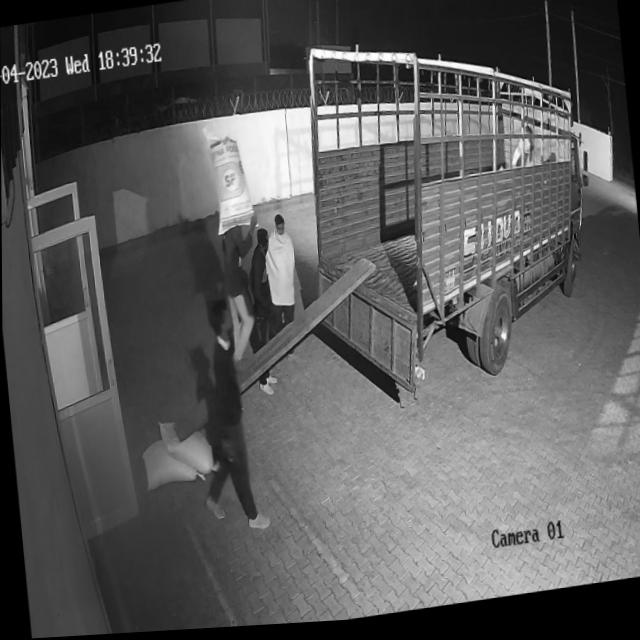sack: (203, 127, 252, 240), (139, 434, 205, 493), (156, 415, 214, 482)
